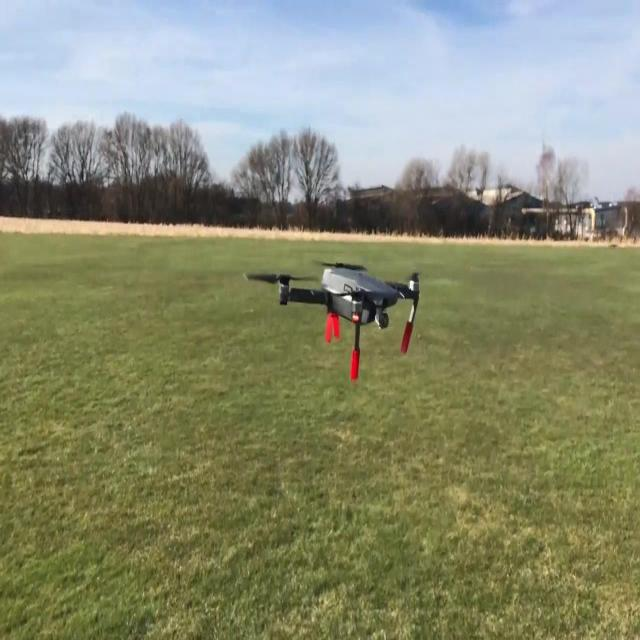UAV: (244, 259, 420, 382)
